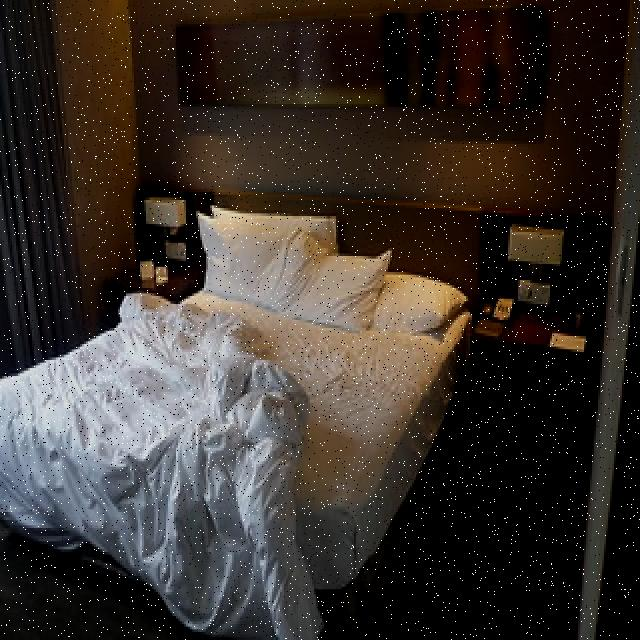bed: (0, 200, 476, 640)
